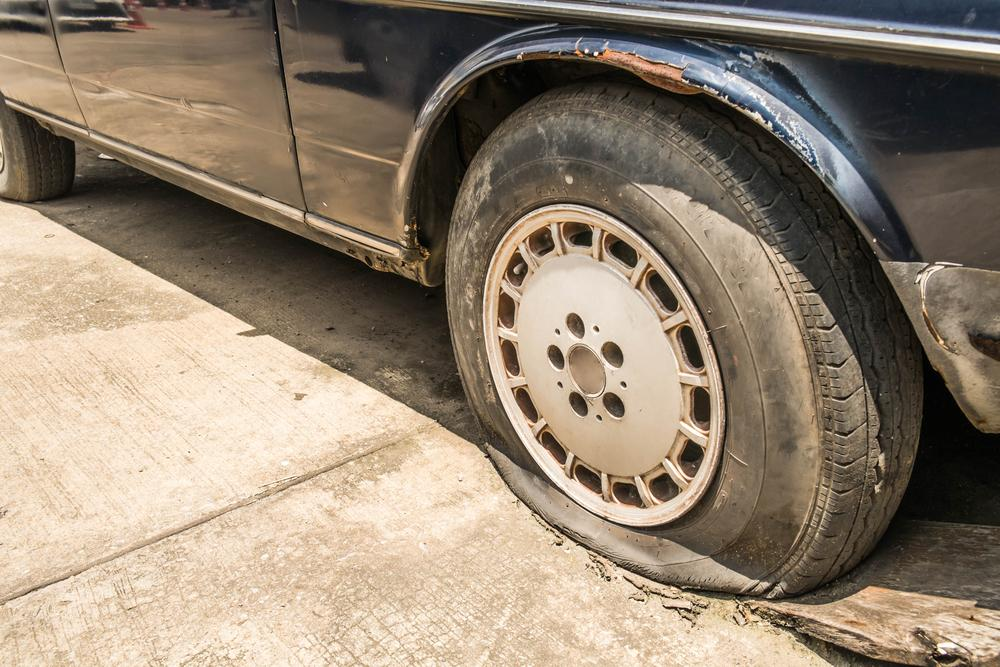tire flat: (446, 73, 923, 597)
